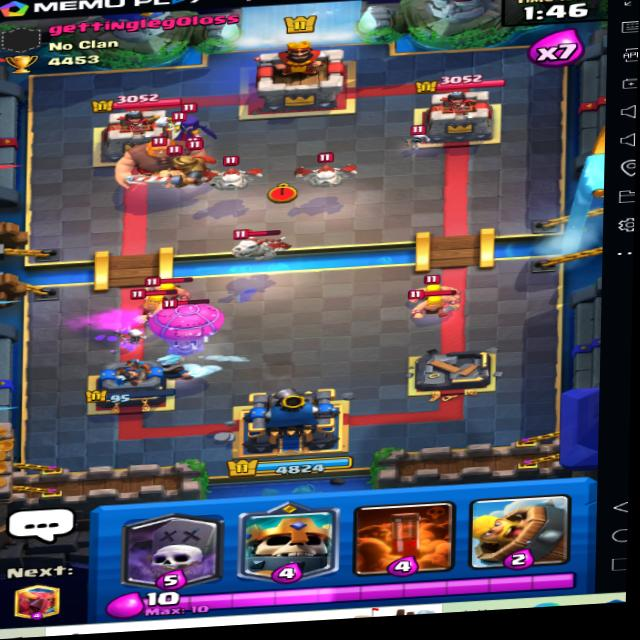balloon: (151, 293, 225, 357)
barbarian: (408, 284, 457, 319), (135, 285, 192, 315), (146, 274, 195, 301), (408, 275, 458, 301)
giant: (113, 133, 206, 191)
prince: (123, 150, 222, 194)
skeleton: (405, 124, 429, 146)
skeleton-dragon: (204, 155, 267, 196), (293, 152, 354, 193), (227, 227, 292, 264)
witch: (155, 105, 211, 149)
